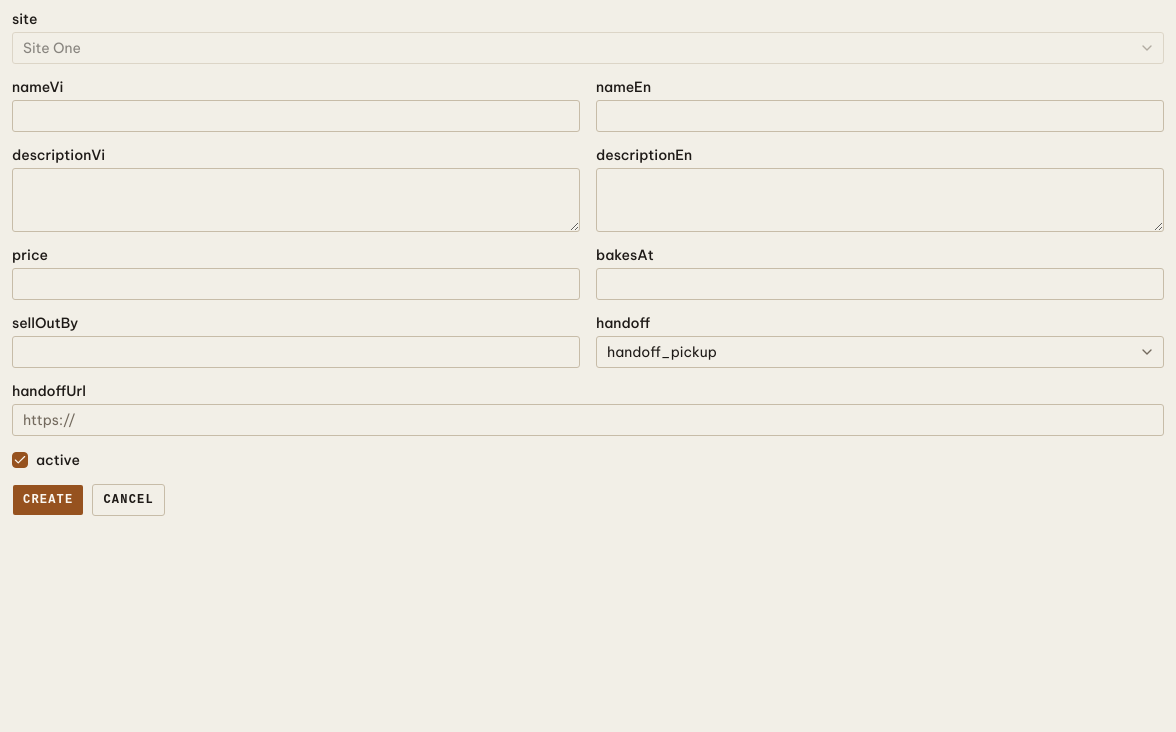
BakeryItemForm › shows validation messages and does not submit an empty form
Click the button "create" at [48, 500], box [12,484,84,516]
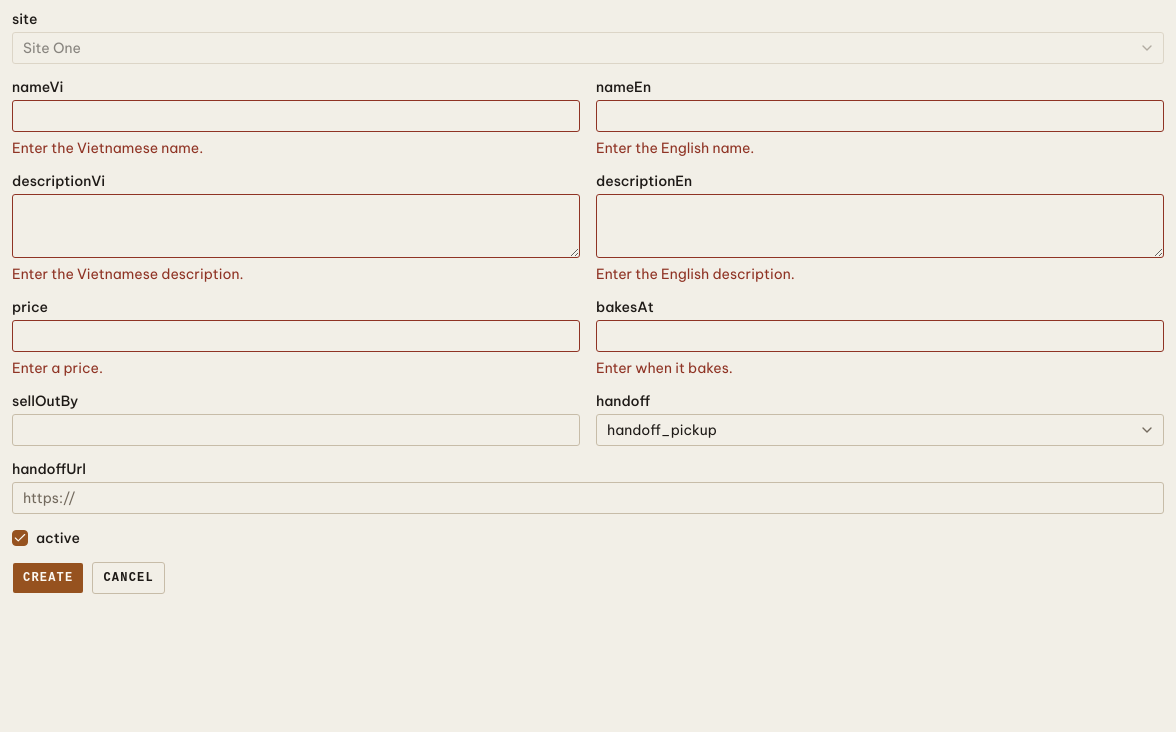
Now the text "Enter the English name." is shown, box [596,139,754,157]
Now the text "Enter the Vietnamese name." is shown, box [12,139,203,157]
Now the text "Enter a price." is shown, box [12,359,103,377]
